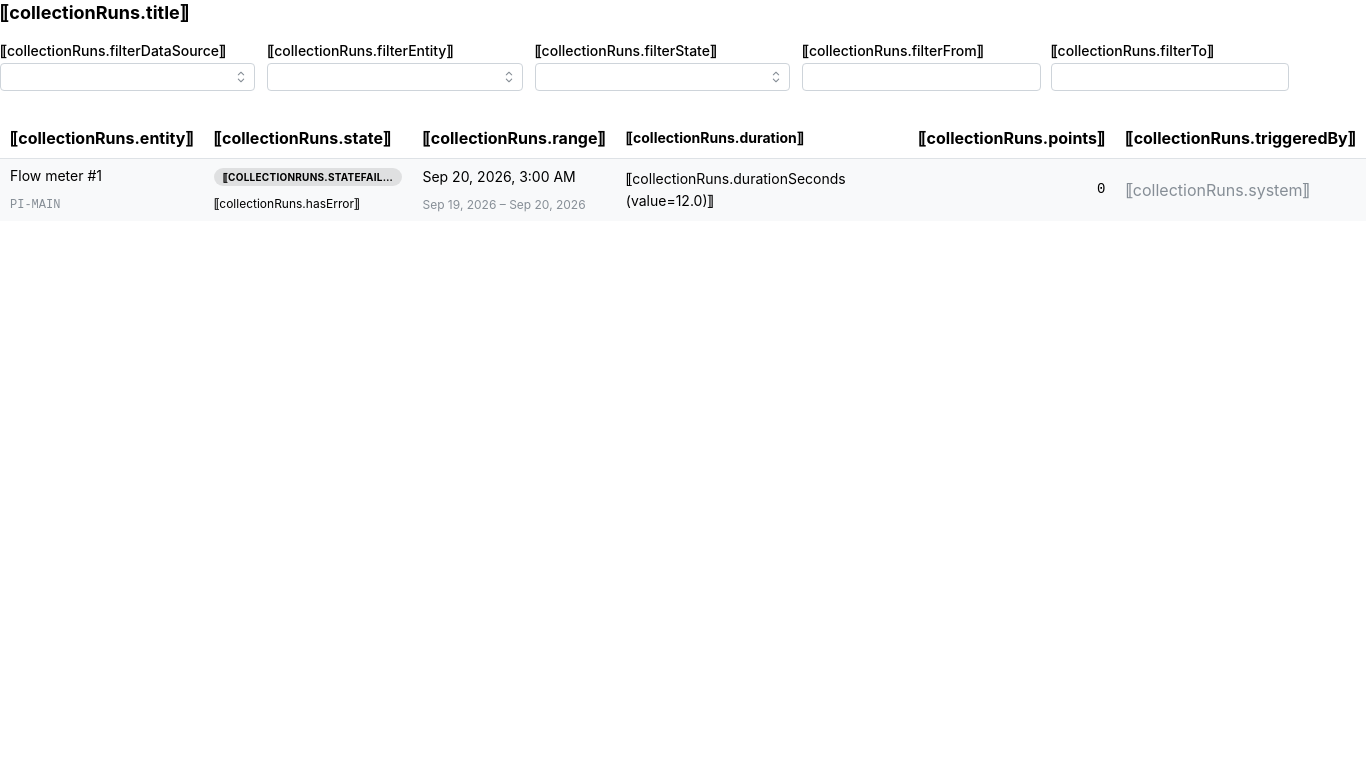
Test: CollectionRunDetailDrawer › клік на рядок відкриває шухляду й показує текст помилки, коли hasError
This screenshot has width=1366, height=768.
Expected: the text "Flow meter #1" is shown, [10,167,102,184]
Click the row that starts with "Flow meter #1". click: (683, 190)
box: [0,158,1365,221]
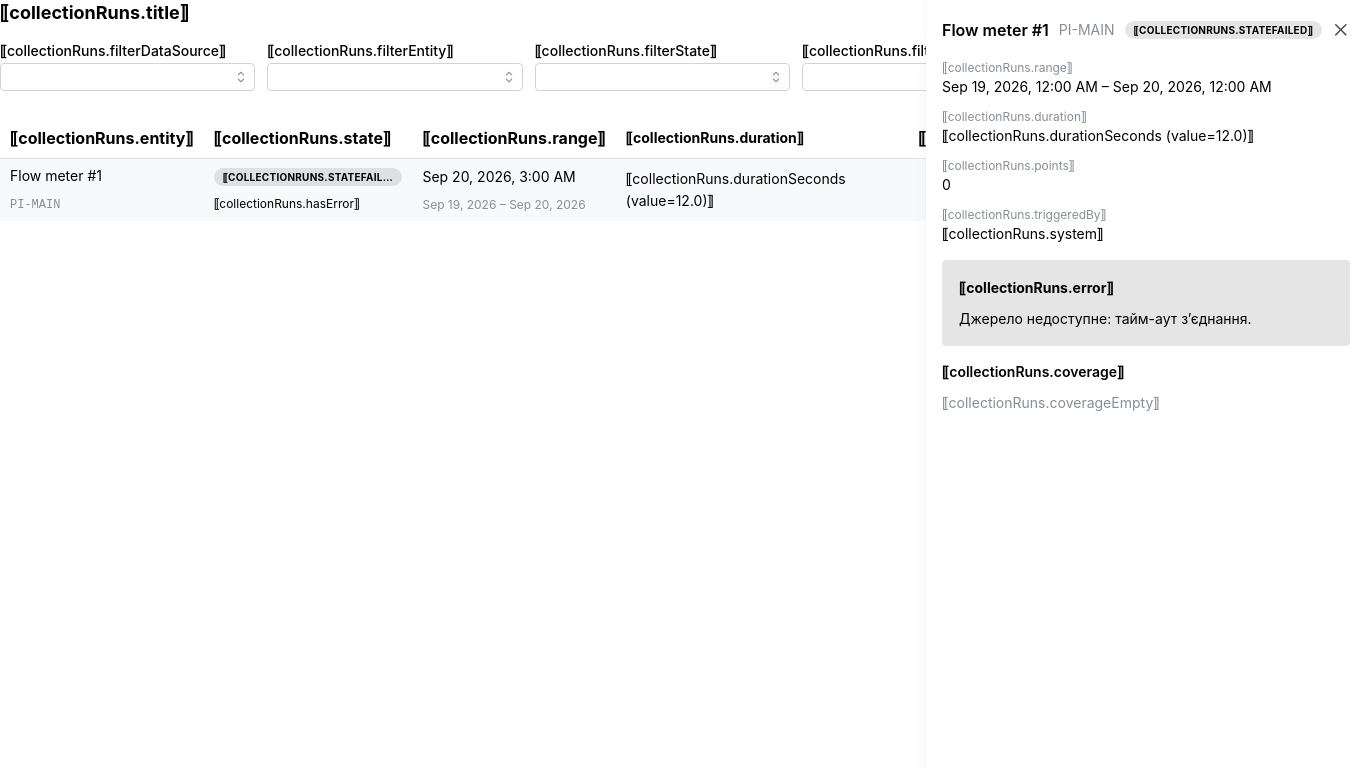
Result: the dialog is shown at [926,0,1365,767]
Result: the text "Джерело недоступне: тайм-аут з’єднання." is shown at [959,310,1252,327]
